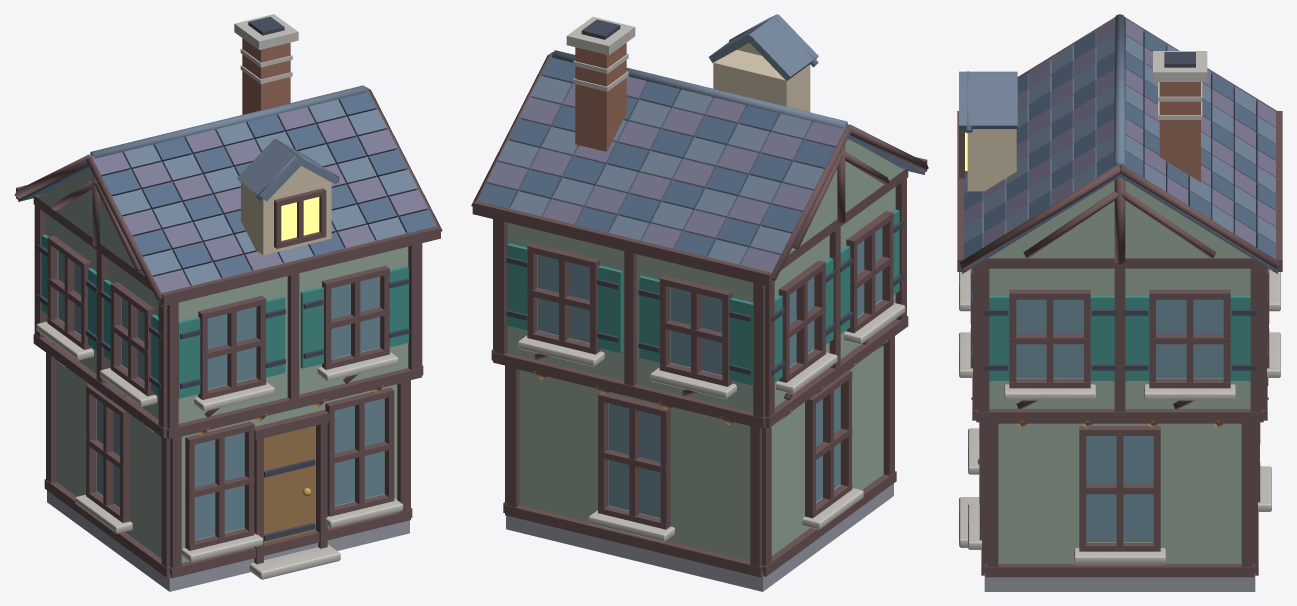
The model's file is house_E.glb.
3 views of the same model, side by side, from view 1: azimuth 30°, elevation 25°; view 2: azimuth 150°, elevation 25°; view 3: azimuth 270°, elevation 25° (orthographic). The views are drawn at different scales.
Parts seen in each view (by area): view 1: house_E_front_oak_door, house_E_stone_footing, house_E_eave_fascia, glass_house_E_front_floor0_window0, glass_house_E_front_floor0_window1, house_E_front_beam.002, house_E_left_wall.006, house_E_left_wall.001, house_E_russet_chimney, house_E_front_beam, glass_house_E_front_floor1_window0, house_E_gable_infill.001 (+124 smaller); view 2: house_E_back_wall.006, house_E_back_wall.001, house_E_stone_footing, house_E_eave_fascia.001, house_E_russet_chimney, glass_house_E_back_floor0_window0, house_E_dormer_body, house_E_back_beam.002, house_E_left_wall.001, house_E_back_beam, house_E_left_wall.006, house_E_gable_infill.001 (+137 smaller); view 3: house_E_right_wall.006, house_E_gable_infill, house_E_right_wall.001, glass_house_E_right_floor0_window0, glass_house_E_right_floor1_window0, glass_house_E_right_floor1_window1, house_E_stone_footing, house_E_right_beam.002, house_E_right_beam, house_E_russet_chimney, house_E_dormer_roof.001, house_E_right_beam.003 (+70 smaller).
Part boxes in pixels (bbox=[...]): house_E_front_oak_door: bbox=[264, 425, 315, 543]; house_E_stone_footing: bbox=[47, 490, 409, 591]; house_E_eave_fascia: bbox=[161, 226, 440, 306]; glass_house_E_front_floor0_window0: bbox=[194, 432, 244, 539]; glass_house_E_front_floor0_window1: bbox=[334, 398, 384, 505]; house_E_front_beam.002: bbox=[167, 367, 421, 438]; house_E_left_wall.006: bbox=[130, 416, 161, 538]; house_E_left_wall.001: bbox=[56, 363, 96, 491]; house_E_russet_chimney: bbox=[242, 38, 290, 114]; house_E_front_beam: bbox=[170, 510, 410, 578]; glass_house_E_front_floor1_window0: bbox=[207, 307, 256, 389]; house_E_gable_infill.001: bbox=[37, 168, 144, 275]; house_E_back_wall.006: bbox=[670, 414, 750, 540]; house_E_back_wall.001: bbox=[519, 378, 608, 505]; house_E_stone_footing: bbox=[506, 483, 893, 591]; house_E_eave_fascia.001: bbox=[472, 200, 774, 286]; house_E_russet_chimney: bbox=[575, 43, 626, 151]; glass_house_E_back_floor0_window0: bbox=[608, 403, 660, 518]; house_E_dormer_body: bbox=[713, 50, 810, 112]; house_E_back_beam.002: bbox=[493, 352, 765, 428]; house_E_left_wall.001: bbox=[771, 404, 804, 534]; house_E_back_beam: bbox=[505, 504, 762, 577]; house_E_left_wall.006: bbox=[840, 348, 881, 484]; house_E_gable_infill.001: bbox=[789, 139, 903, 253]; house_E_right_wall.006: bbox=[1160, 432, 1241, 542]; house_E_gable_infill: bbox=[988, 180, 1251, 258]; house_E_right_wall.001: bbox=[1002, 432, 1079, 542]; glass_house_E_right_floor0_window0: bbox=[1086, 436, 1153, 541]; glass_house_E_right_floor1_window0: bbox=[1016, 299, 1083, 378]; glass_house_E_right_floor1_window1: bbox=[1156, 299, 1223, 378]; house_E_stone_footing: bbox=[984, 573, 1255, 591]; house_E_right_beam.002: bbox=[976, 409, 1263, 422]; house_E_right_beam: bbox=[985, 564, 1254, 577]; house_E_russet_chimney: bbox=[1159, 82, 1200, 181]; house_E_dormer_roof.001: bbox=[959, 72, 1017, 128]; house_E_right_beam.003: bbox=[976, 258, 1263, 268].
Bounding box in the file's own units: 4.83 × 7.4 × 4.33.
